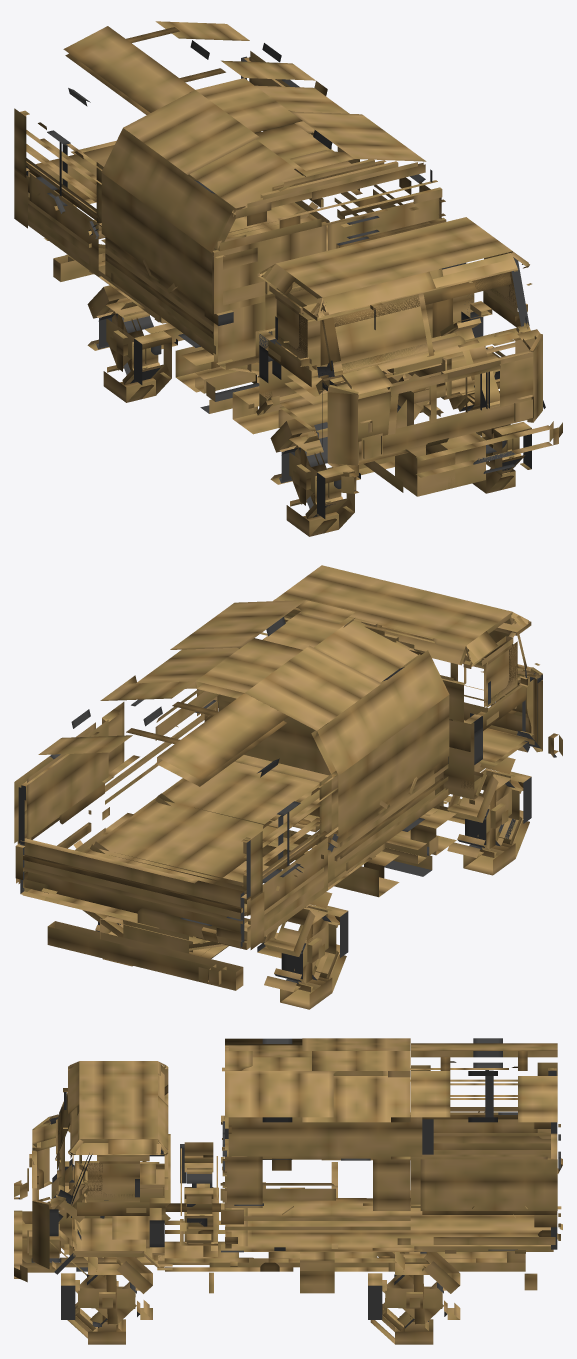
The model's file is gaz66.obj.
3 views of the same model, one above another, from view 1: azimuth 30°, elevation 25°; view 2: azimuth 150°, elevation 25°; view 3: azimuth 270°, elevation 25° (orthographic). The views are drawn at different scales.
Visible parts, largest first — view 1: body, w2, w1, w3; view 2: body, w2, w1; view 3: body, w4, w3.
Part boxes in pixels (left/top/right/bottom): body: left=14, top=21, right=562, bottom=496; w2: left=87, top=285, right=177, bottom=402; w1: left=270, top=419, right=360, bottom=536; w3: left=449, top=391, right=531, bottom=493; body: left=14, top=565, right=562, bottom=990; w2: left=257, top=892, right=348, bottom=1009; w1: left=447, top=757, right=531, bottom=875; body: left=14, top=1038, right=562, bottom=1293; w4: left=368, top=1252, right=460, bottom=1344; w3: left=61, top=1257, right=152, bottom=1344.
Bounding box in the file's own units: 3.15 × 3.37 × 6.95.
